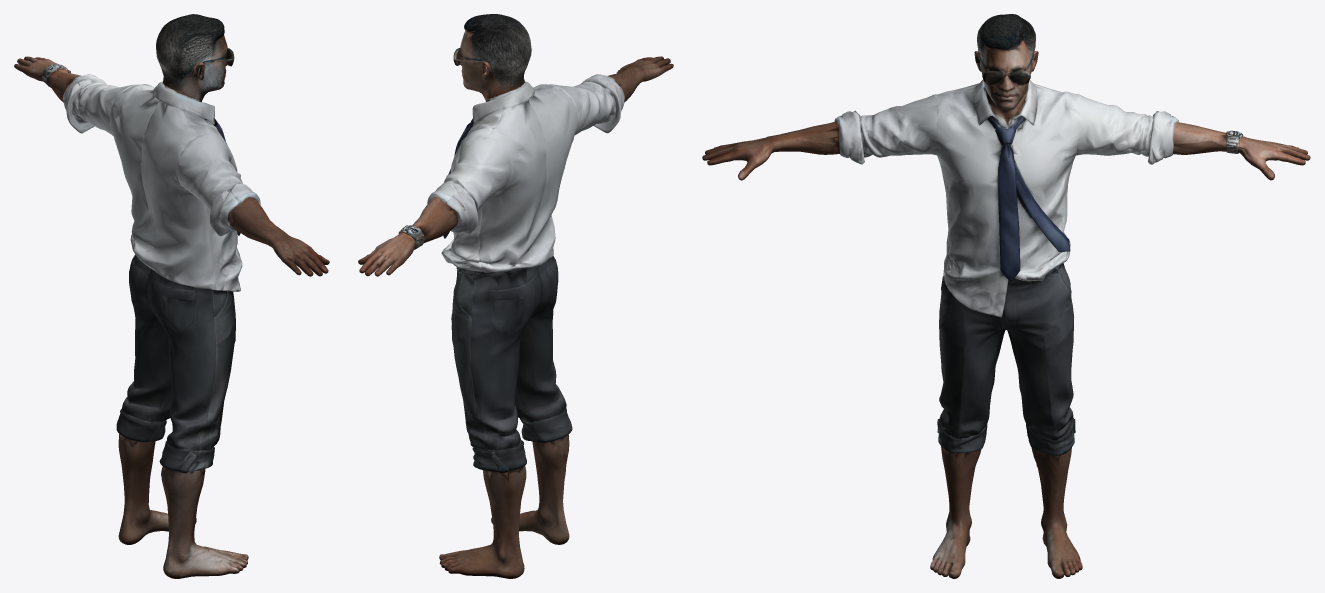
File: the-boss.glb
The picture shows the model from 3 angles, left to right: view 1: azimuth 30°, elevation 25°; view 2: azimuth 150°, elevation 25°; view 3: azimuth 270°, elevation 25°; orthographic projection. The views are drawn at different scales.
Visible parts, largest first — view 1: the-boss; view 2: the-boss; view 3: the-boss.
Part boxes in pixels (x1,y1,x2,y2): the-boss: (14,14,329,578); the-boss: (358,14,673,578); the-boss: (702,14,1310,578).
Size of the model in its own units: 0.1966 by 0.9735 by 0.9799.
1 material, 1 textured.
